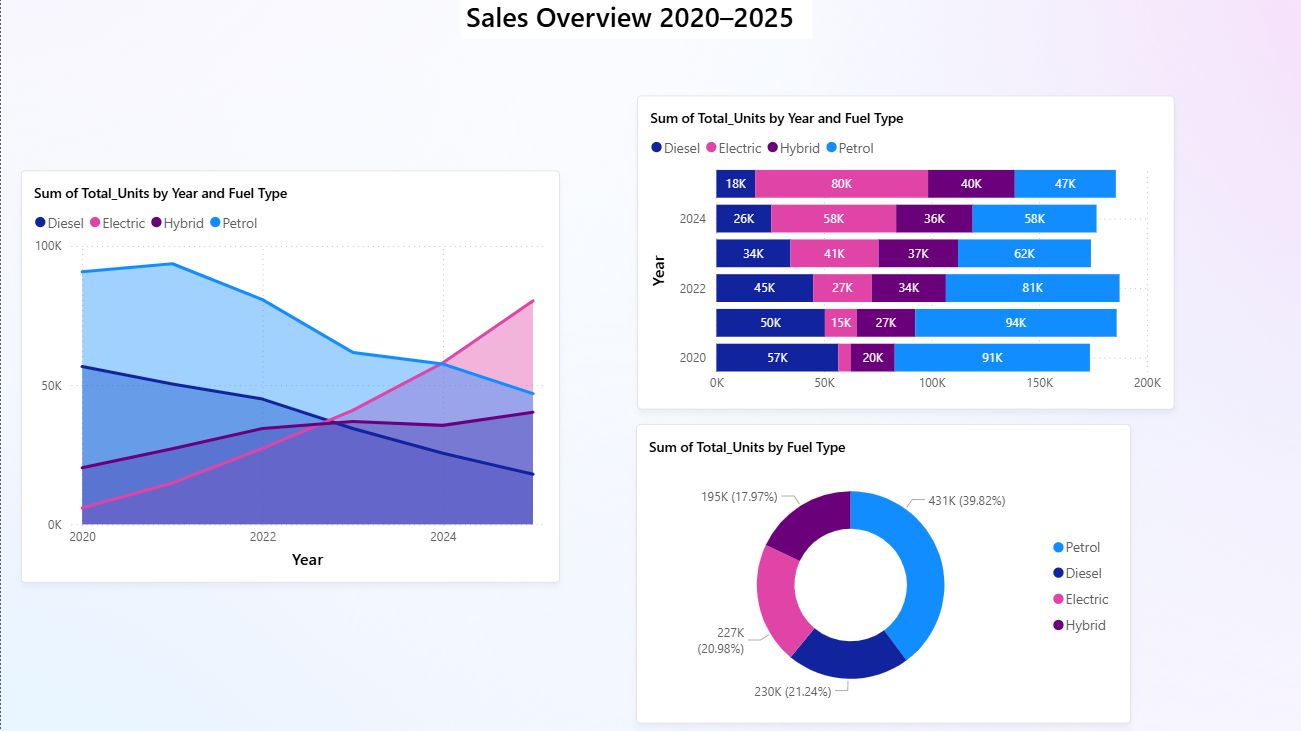

The page's visual inventory and layout, read from the dashboard file:
{"tool":"powerbi","page":{"name":"Page 3","canvas":[1280,720],"ordinal":2},"visuals":[{"type":"areaChart","fields":{"Y":["Sum(PBI_03_Fuel_Trend.Total_Units)"],"Category":["PBI_03_Fuel_Trend.Year"],"Series":["PBI_03_Fuel_Trend.Fuel Type"]},"box":[20,168.6,527.1,402.9],"z":0},{"type":"barChart","fields":{"Category":["PBI_03_Fuel_Trend.Year"],"Series":["PBI_03_Fuel_Trend.Fuel Type"],"Y":["Sum(PBI_03_Fuel_Trend.Total_Units)"]},"box":[622.9,95.7,525.7,307.1],"z":1000},{"type":"donutChart","fields":{"Category":["PBI_03_Fuel_Trend.Fuel Type"],"Y":["Sum(PBI_03_Fuel_Trend.Total_Units)"]},"box":[621.4,417.1,484.3,292.9],"z":2000},{"type":"textbox","title":"Sales Overview 2020–2025","box":[450,0,344.3,40],"z":3000}]}

Visuals, with their boxes in screenshot pixels (x1, y1, x2, y2), scaled from the page's 1280x720 canvas onto the 1301x731 screenshot:
areaChart - Sum(PBI_03_Fuel_Trend.Total_Units) x PBI_03_Fuel_Trend.Year: <box>20,171,556,580</box>
barChart - PBI_03_Fuel_Trend.Year x PBI_03_Fuel_Trend.Fuel Type: <box>633,97,1167,409</box>
donutChart - PBI_03_Fuel_Trend.Fuel Type x Sum(PBI_03_Fuel_Trend.Total_Units): <box>632,423,1124,721</box>
"Sales Overview 2020–2025" textbox: <box>457,0,807,41</box>
